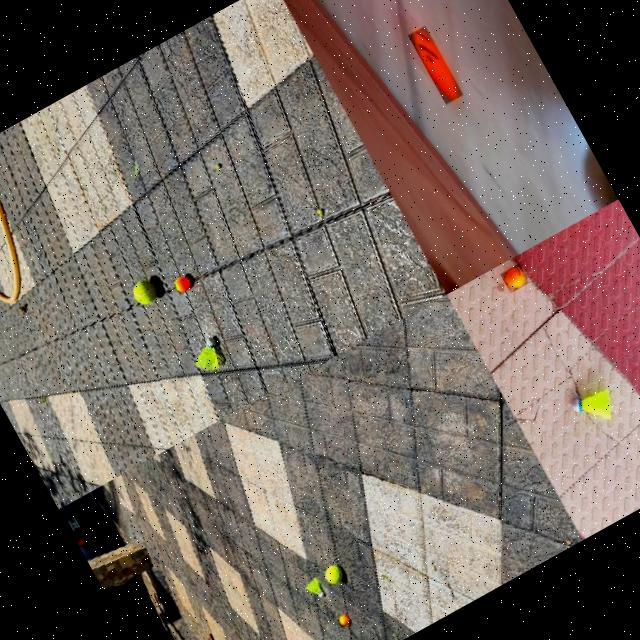ping-pong-ball: (407, 23, 463, 104), (500, 262, 530, 292), (172, 274, 193, 294), (336, 613, 350, 627)
